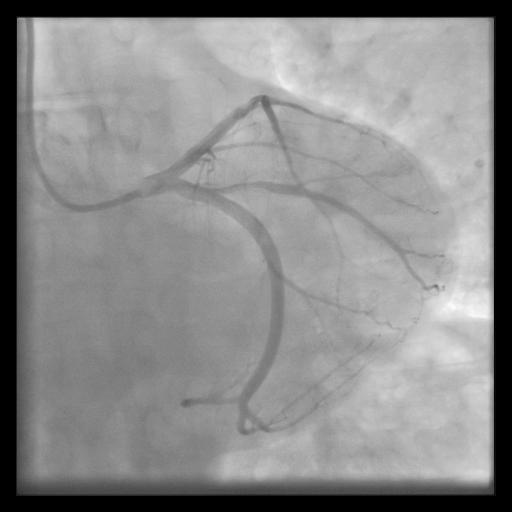Stenosis: (219, 181, 274, 191)
